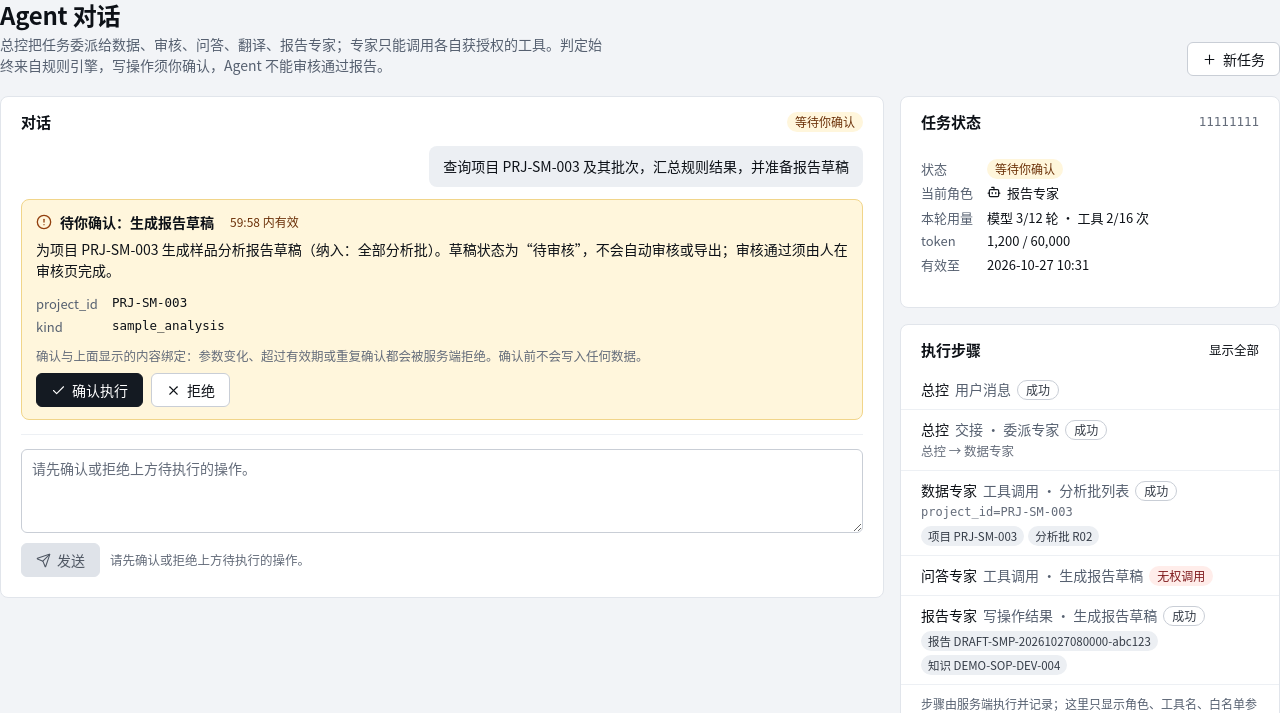
Test: Agent 对话：待确认的写操作 › 显示待执行动作与有效期；输入框锁定；确认只发送一次并带参数哈希；哈希不显示给用户
Expected: the text "待你确认：生成报告草稿" is shown, [60,212,214,232]
Expected: the text "不会自动审核或导出" is shown, [36,238,848,280]
Double-click the button "确认执行" at {"x": 90, "y": 390}, box [36,373,143,407]
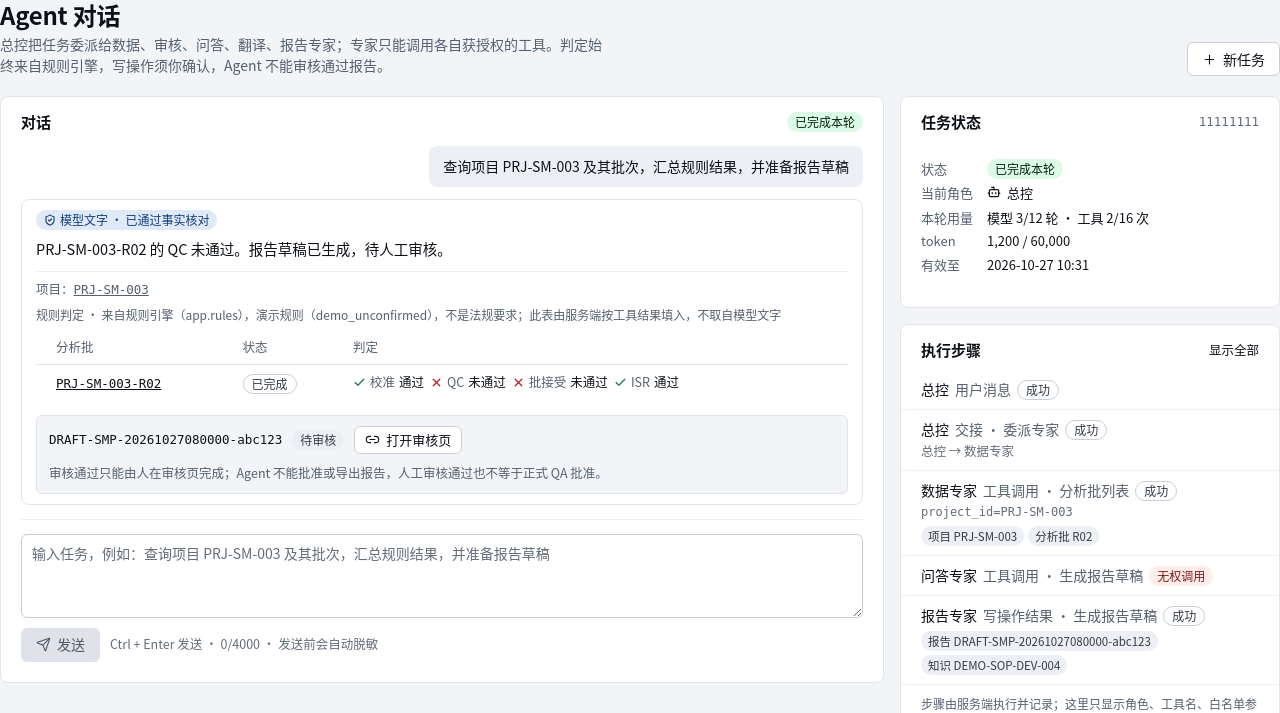
Now the element named "最终回答" is shown, box [21,198,863,505]
Now the element "待确认的操作" is gone
